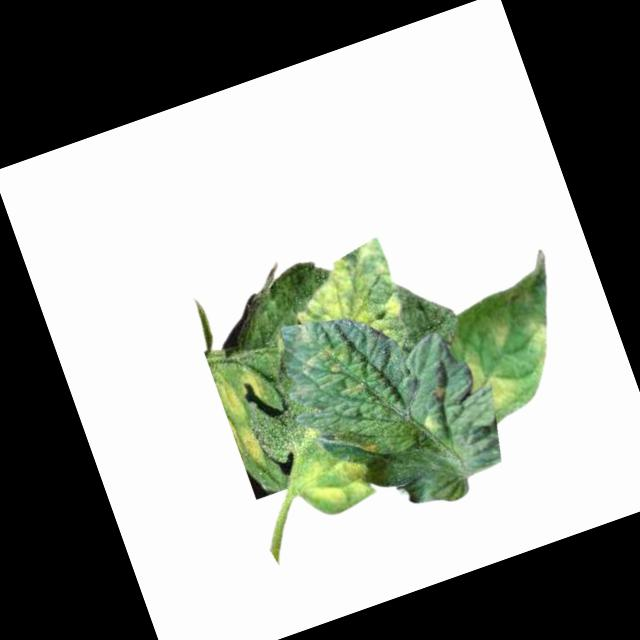Leaf_Mold: (277, 236, 414, 374), (289, 442, 381, 526), (458, 346, 525, 418), (299, 339, 359, 389), (518, 316, 560, 371), (213, 375, 251, 430), (232, 420, 270, 469), (235, 367, 267, 407), (483, 313, 517, 350), (335, 375, 372, 405), (417, 409, 443, 438), (358, 433, 383, 459)
